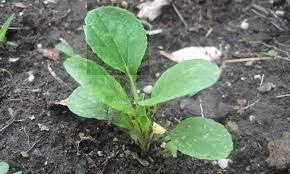Healthy-Pechay: (76, 2, 224, 153)
